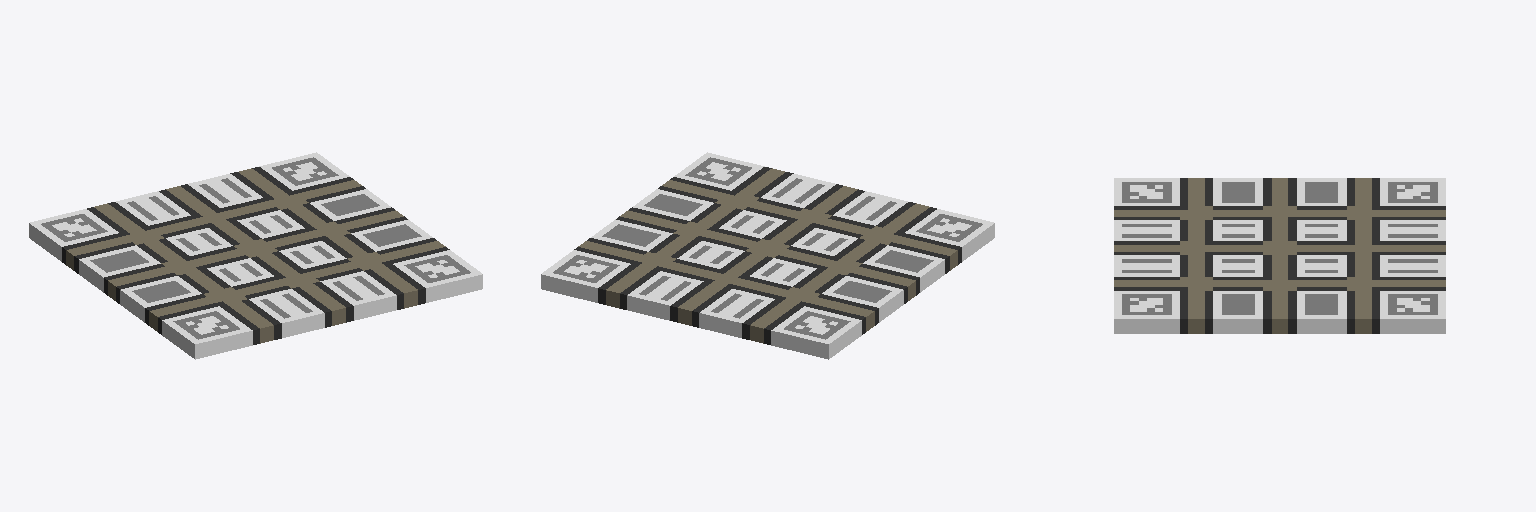
The picture shows the model from 3 angles: view 1: azimuth 30°, elevation 25°; view 2: azimuth 150°, elevation 25°; view 3: azimuth 270°, elevation 25°; orthographic projection.
Bounding box in the file's own units: 40 × 2 × 40.
1 materials, 1 textured.